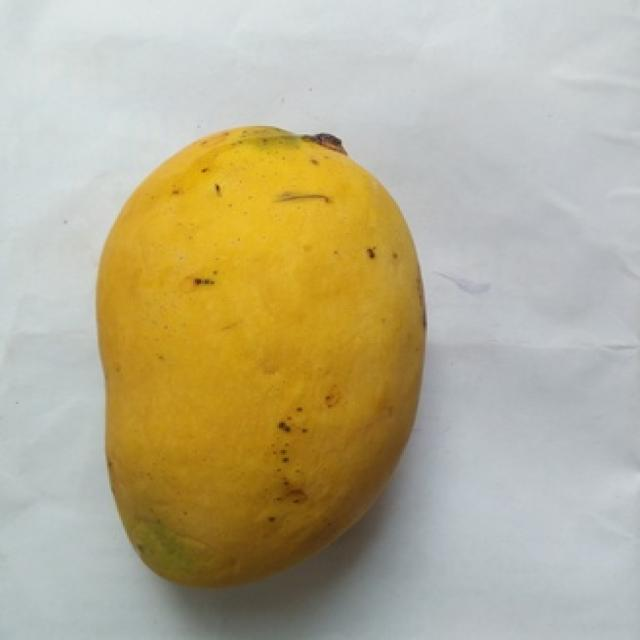Mango: (98, 126, 423, 584)
